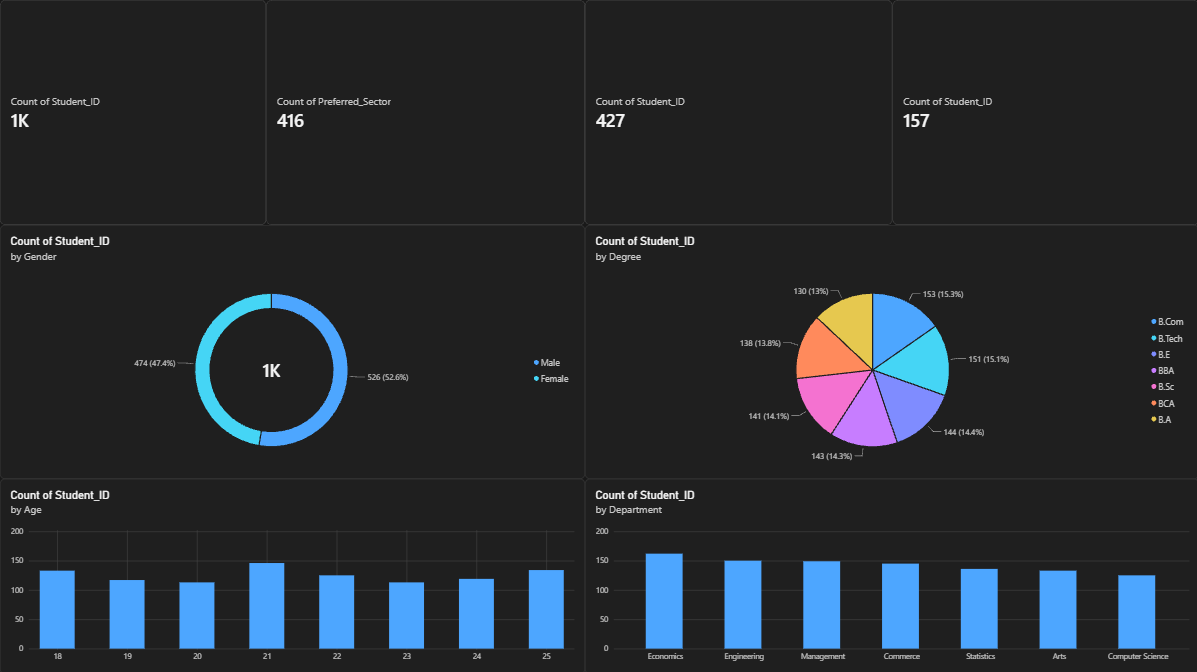

The page's visual inventory and layout, read from the dashboard file:
{"tool":"powerbi","page":{"name":"Page 1","canvas":[1920,1080],"ordinal":0},"visuals":[{"type":"cardVisual","fields":{"Data":["CountNonNull(student_career_data.Student_ID)"]},"box":[0,0,426,360],"z":0},{"type":"cardVisual","fields":{"Data":["CountNonNull(student_career_data.Preferred_Sector)"]},"box":[426,0,510,360],"z":1},{"type":"cardVisual","fields":{"Data":["CountNonNull(student_career_data.Student_ID)"]},"box":[936,0,492,360],"z":2},{"type":"cardVisual","fields":{"Data":["CountNonNull(student_career_data.Student_ID)"]},"box":[1428,0,492,360],"z":3},{"type":"donutChart","fields":{"Category":["student_career_data.Gender"],"Y":["CountNonNull(student_career_data.Student_ID)"]},"box":[0,360,936,406],"z":4},{"type":"lineClusteredColumnComboChart","fields":{"Category":["student_career_data.Age"],"Y":["CountNonNull(student_career_data.Student_ID)"]},"box":[0,766,936,314],"z":5},{"type":"lineClusteredColumnComboChart","fields":{"Category":["student_career_data.Department"],"Y":["CountNonNull(student_career_data.Student_ID)"]},"box":[936,766,984,314],"z":6},{"type":"pieChart","fields":{"Category":["student_career_data.Degree"],"Y":["CountNonNull(student_career_data.Student_ID)"]},"box":[936,360,984,406],"z":7}]}

Visuals, with their boxes in screenshot pixels (x1, y1, x2, y2), scaled from the page's 1920x1080 canvas onto the 1197x672 screenshot:
cardVisual - CountNonNull(student_career_data.Student_ID): crop(0, 0, 266, 224)
cardVisual - CountNonNull(student_career_data.Preferred_Sector): crop(266, 0, 584, 224)
cardVisual - CountNonNull(student_career_data.Student_ID): crop(584, 0, 890, 224)
cardVisual - CountNonNull(student_career_data.Student_ID): crop(890, 0, 1196, 224)
donutChart - student_career_data.Gender x CountNonNull(student_career_data.Student_ID): crop(0, 224, 584, 477)
lineClusteredColumnComboChart - student_career_data.Age x CountNonNull(student_career_data.Student_ID): crop(0, 477, 584, 671)
lineClusteredColumnComboChart - student_career_data.Department x CountNonNull(student_career_data.Student_ID): crop(584, 477, 1196, 671)
pieChart - student_career_data.Degree x CountNonNull(student_career_data.Student_ID): crop(584, 224, 1196, 477)
